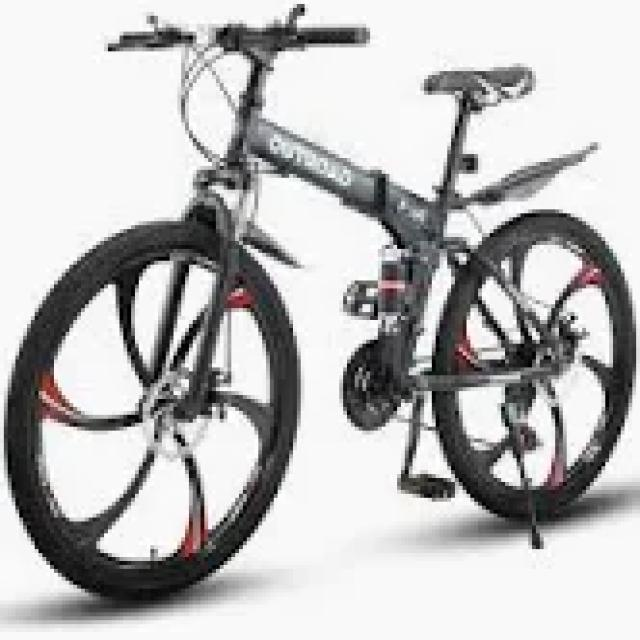bike: (0, 0, 636, 600)
